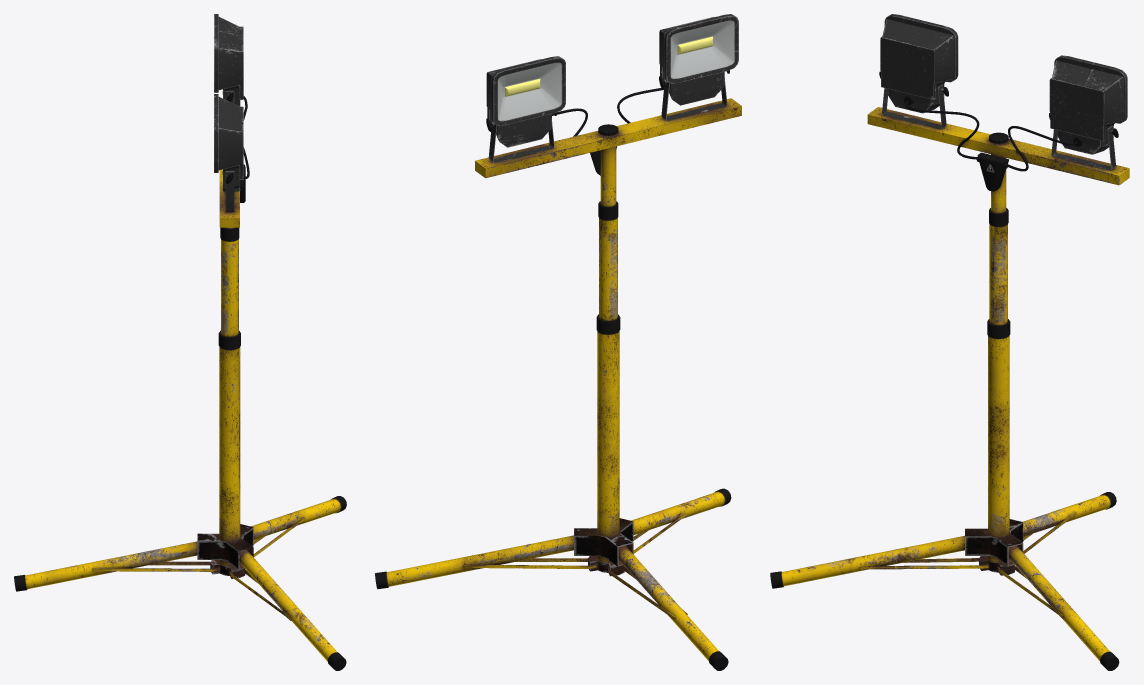
The model's file is WorkLight02.fbx.
The picture shows the model from 3 angles, left to right: view 1: azimuth 30°, elevation 25°; view 2: azimuth 150°, elevation 25°; view 3: azimuth 270°, elevation 25°; orthographic projection. The views are drawn at different scales.
Visible parts, largest first — view 1: WorkLight; view 2: WorkLight; view 3: WorkLight.
Boxes of the visible parts, x1,y1,x2,y2 form: WorkLight: (14,14,346,670); WorkLight: (375,14,741,670); WorkLight: (770,14,1129,670).
Size of the model in its own units: 118 by 178 by 107.
1 material, 1 textured.
